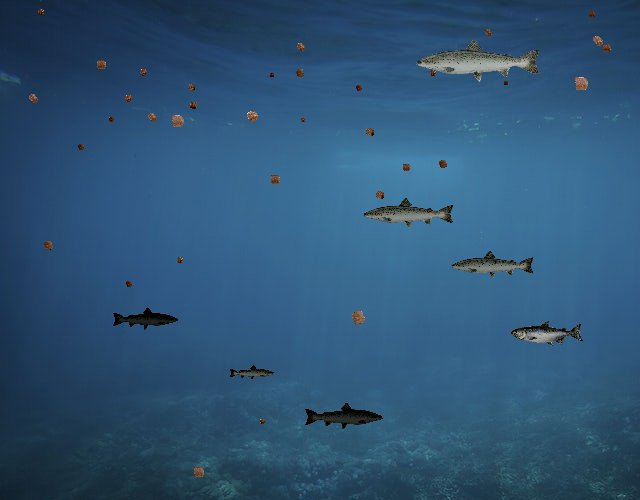Fish: (414, 37, 543, 83), (363, 196, 457, 230), (450, 249, 536, 280), (304, 402, 385, 431), (512, 321, 585, 347), (112, 306, 180, 330), (229, 364, 276, 381)
Pellet: (240, 104, 265, 129), (187, 461, 210, 484), (370, 185, 389, 204), (172, 253, 187, 268), (122, 277, 136, 291), (34, 5, 48, 19), (256, 416, 268, 428)
